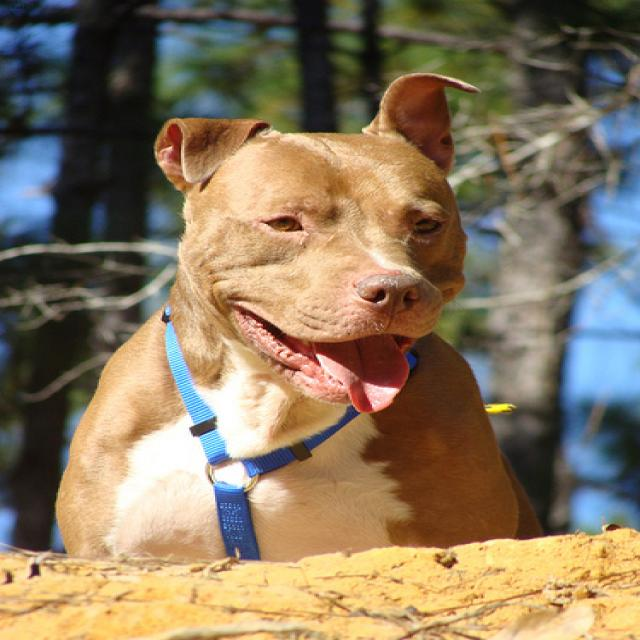dog-american_pit_bull_terrier: (41, 59, 560, 576)
